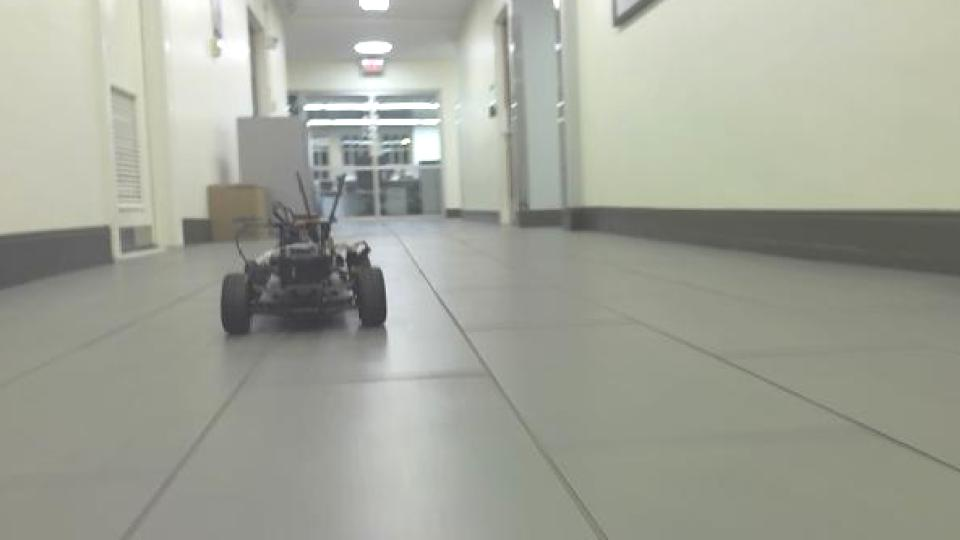car: (218, 168, 392, 336)
